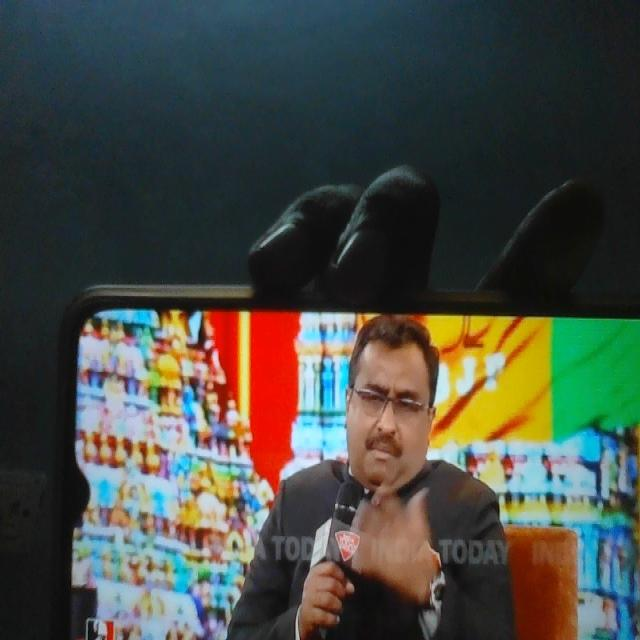fake: (331, 284, 446, 501)
